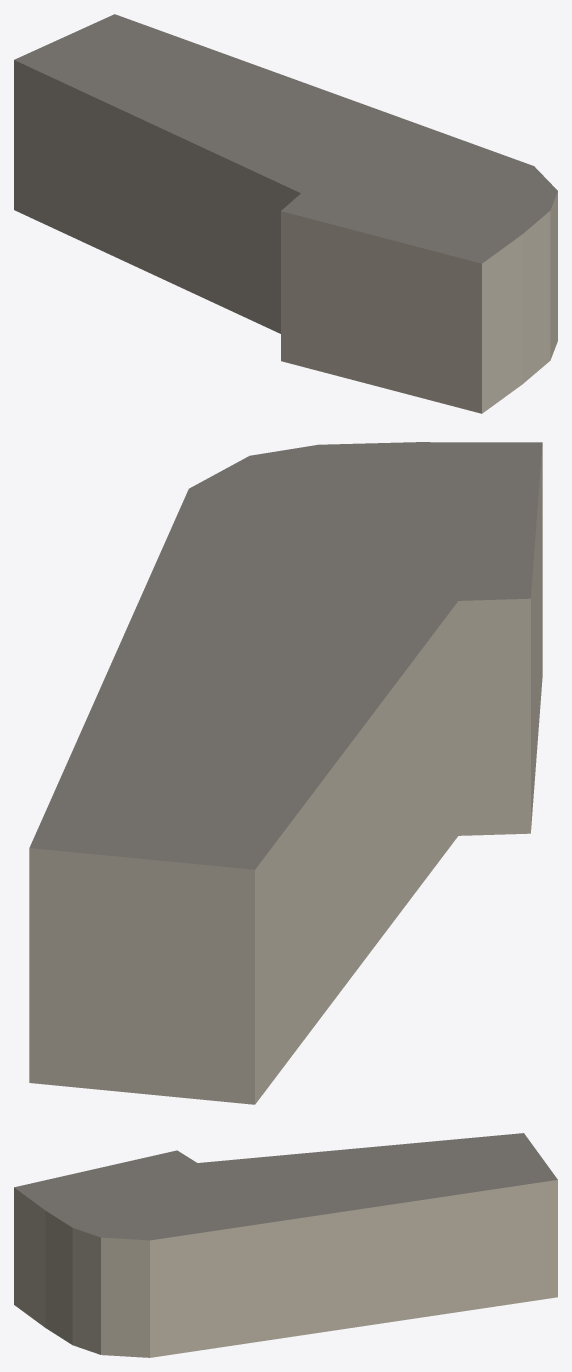
3 renders of one model, top to bottom at view 1: azimuth 30°, elevation 25°; view 2: azimuth 150°, elevation 25°; view 3: azimuth 270°, elevation 25°, orthographic. The views are drawn at different scales.
Parts seen in each view (by area): view 1: HP-w369317609; view 2: HP-w369317609; view 3: HP-w369317609.
Boxes of the visible parts, <box> form: HP-w369317609: <box>14,14,557,413</box>; HP-w369317609: <box>29,442,542,1104</box>; HP-w369317609: <box>14,1133,557,1357</box>.
Size of the model in its own units: 23.53 by 12 by 50.36.
